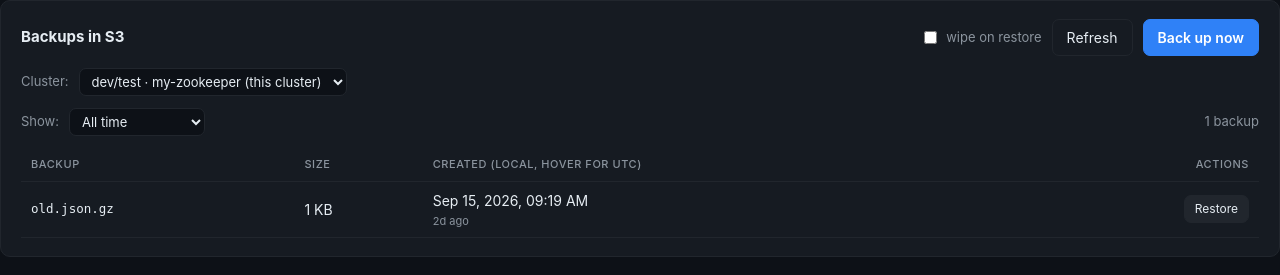
Test: BackupsCard › distinguishes 'no match' from 'no backups' when filtering
Select "Last hour" in the dropdown titled "Filter backups" at coordinates (137, 122), box [69, 108, 205, 136]
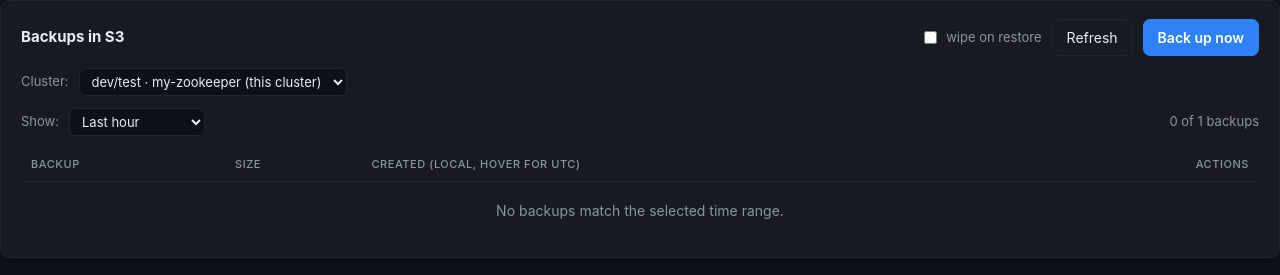
Check: the text "No backups match the selected time range." is shown, box [496, 202, 784, 218]
Check: the text "0 of 1 backups" is shown, box [1170, 112, 1259, 132]
